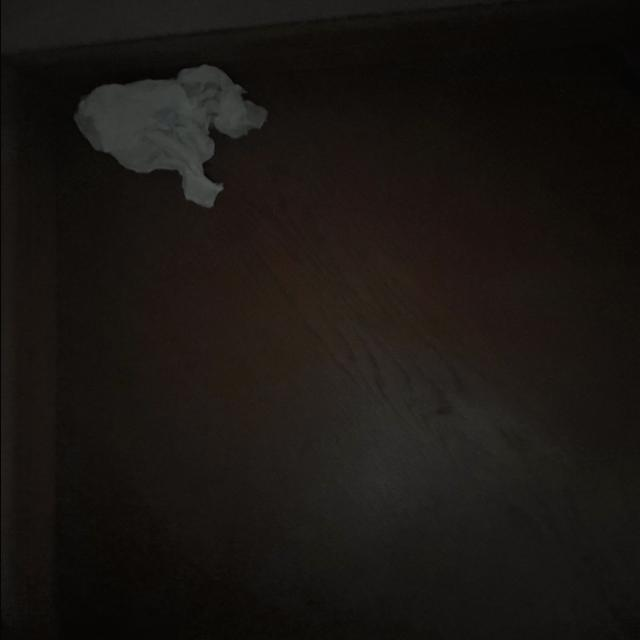Paper: (64, 63, 276, 199)
